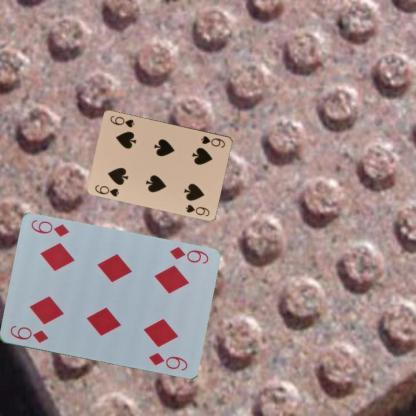6d: (166, 244, 210, 266), (7, 322, 50, 344)
6s: (92, 182, 121, 198), (198, 133, 226, 149)
